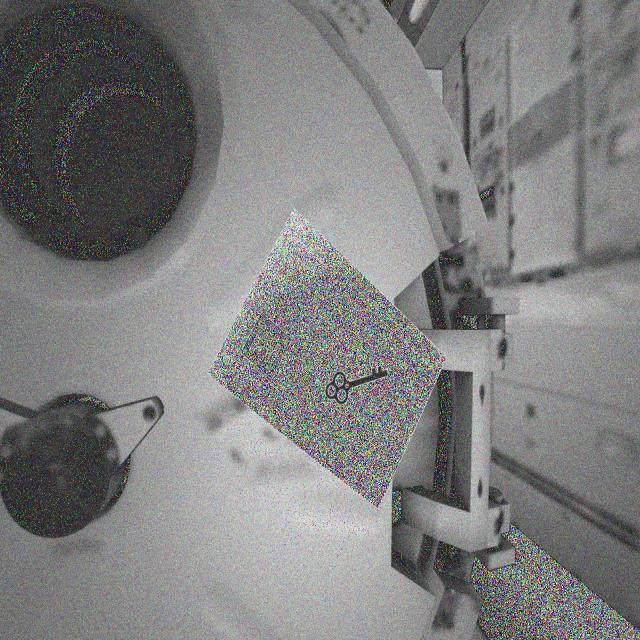key: (311, 343, 399, 410)
